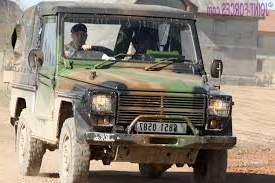license_plate: (137, 120, 186, 135)
